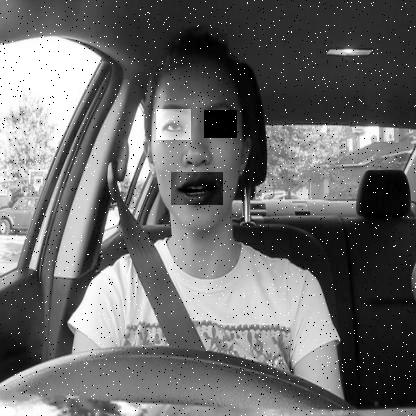seatbelt: (121, 29, 274, 347)
